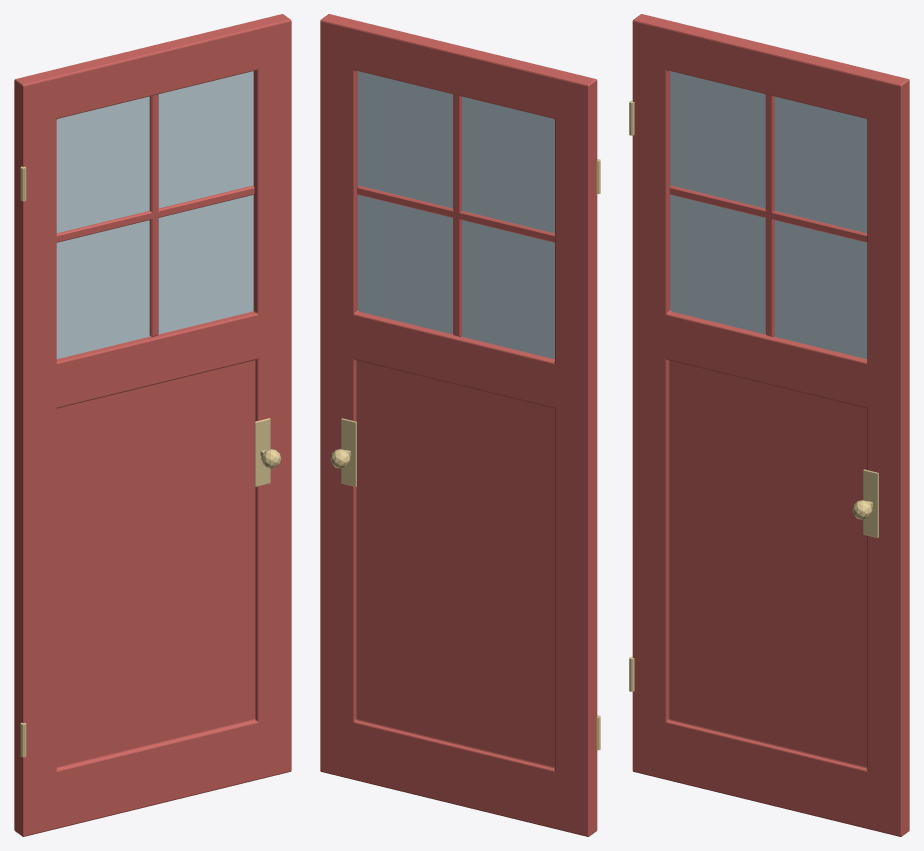
The model's file is door_leaf_hall.glb.
The picture shows the model from 3 angles, left to right: view 1: azimuth 30°, elevation 25°; view 2: azimuth 150°, elevation 25°; view 3: azimuth 330°, elevation 25°; orthographic projection.
Parts seen in each view (by area): view 1: door_leaf_hall_door, door_leaf_hall_glass, door_leaf_hall_brass; view 2: door_leaf_hall_door, door_leaf_hall_glass, door_leaf_hall_brass; view 3: door_leaf_hall_door, door_leaf_hall_glass, door_leaf_hall_brass.
Part boxes in pixels (box(x1,y1,x2,y2)): door_leaf_hall_door: box(14, 14, 291, 836); door_leaf_hall_glass: box(56, 71, 253, 359); door_leaf_hall_brass: box(20, 166, 281, 757); door_leaf_hall_door: box(320, 14, 597, 836); door_leaf_hall_glass: box(358, 71, 554, 359); door_leaf_hall_brass: box(330, 159, 600, 750); door_leaf_hall_door: box(632, 14, 909, 836); door_leaf_hall_glass: box(670, 71, 867, 358); door_leaf_hall_brass: box(629, 100, 878, 691).
Size of the model in its own units: 0.868 by 2.3 by 0.206.
